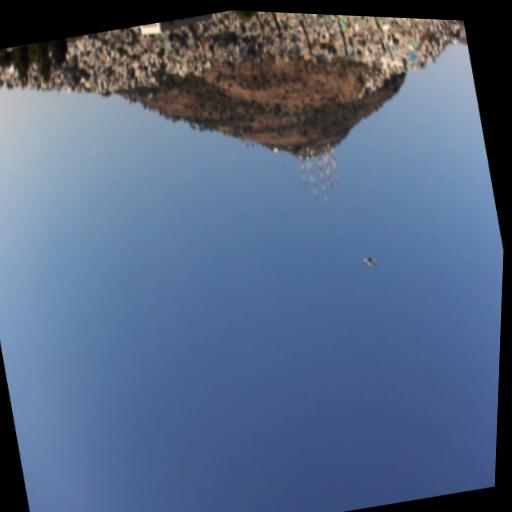drones: (359, 248, 380, 271)
